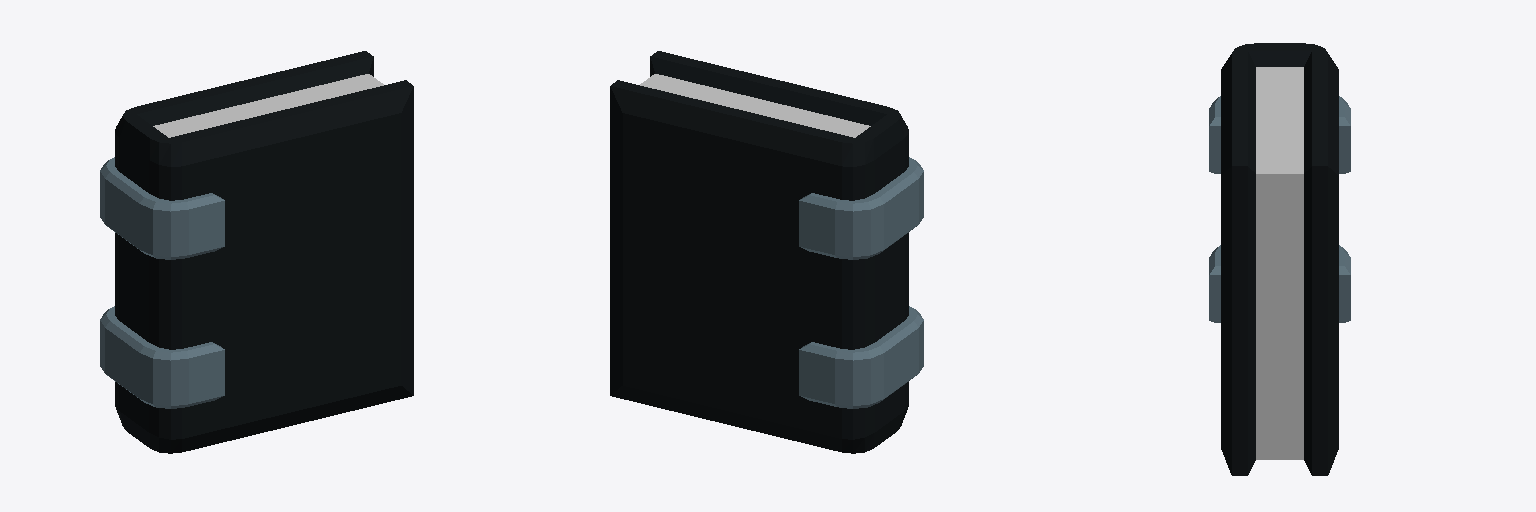
Rendered from bookA.obj.
3 renders of one model, left to right at view 1: azimuth 30°, elevation 25°; view 2: azimuth 150°, elevation 25°; view 3: azimuth 270°, elevation 25°, orthographic.
Parts seen in each view (by area): view 1: bookA_Cube.4073; view 2: bookA_Cube.4073; view 3: bookA_Cube.4073.
Boxes of the visible parts, <box> form: bookA_Cube.4073: <box>100,51,413,453</box>; bookA_Cube.4073: <box>610,51,923,453</box>; bookA_Cube.4073: <box>1209,43,1350,475</box>.
Size of the model in its own units: 0.3758 by 0.4161 by 0.172.